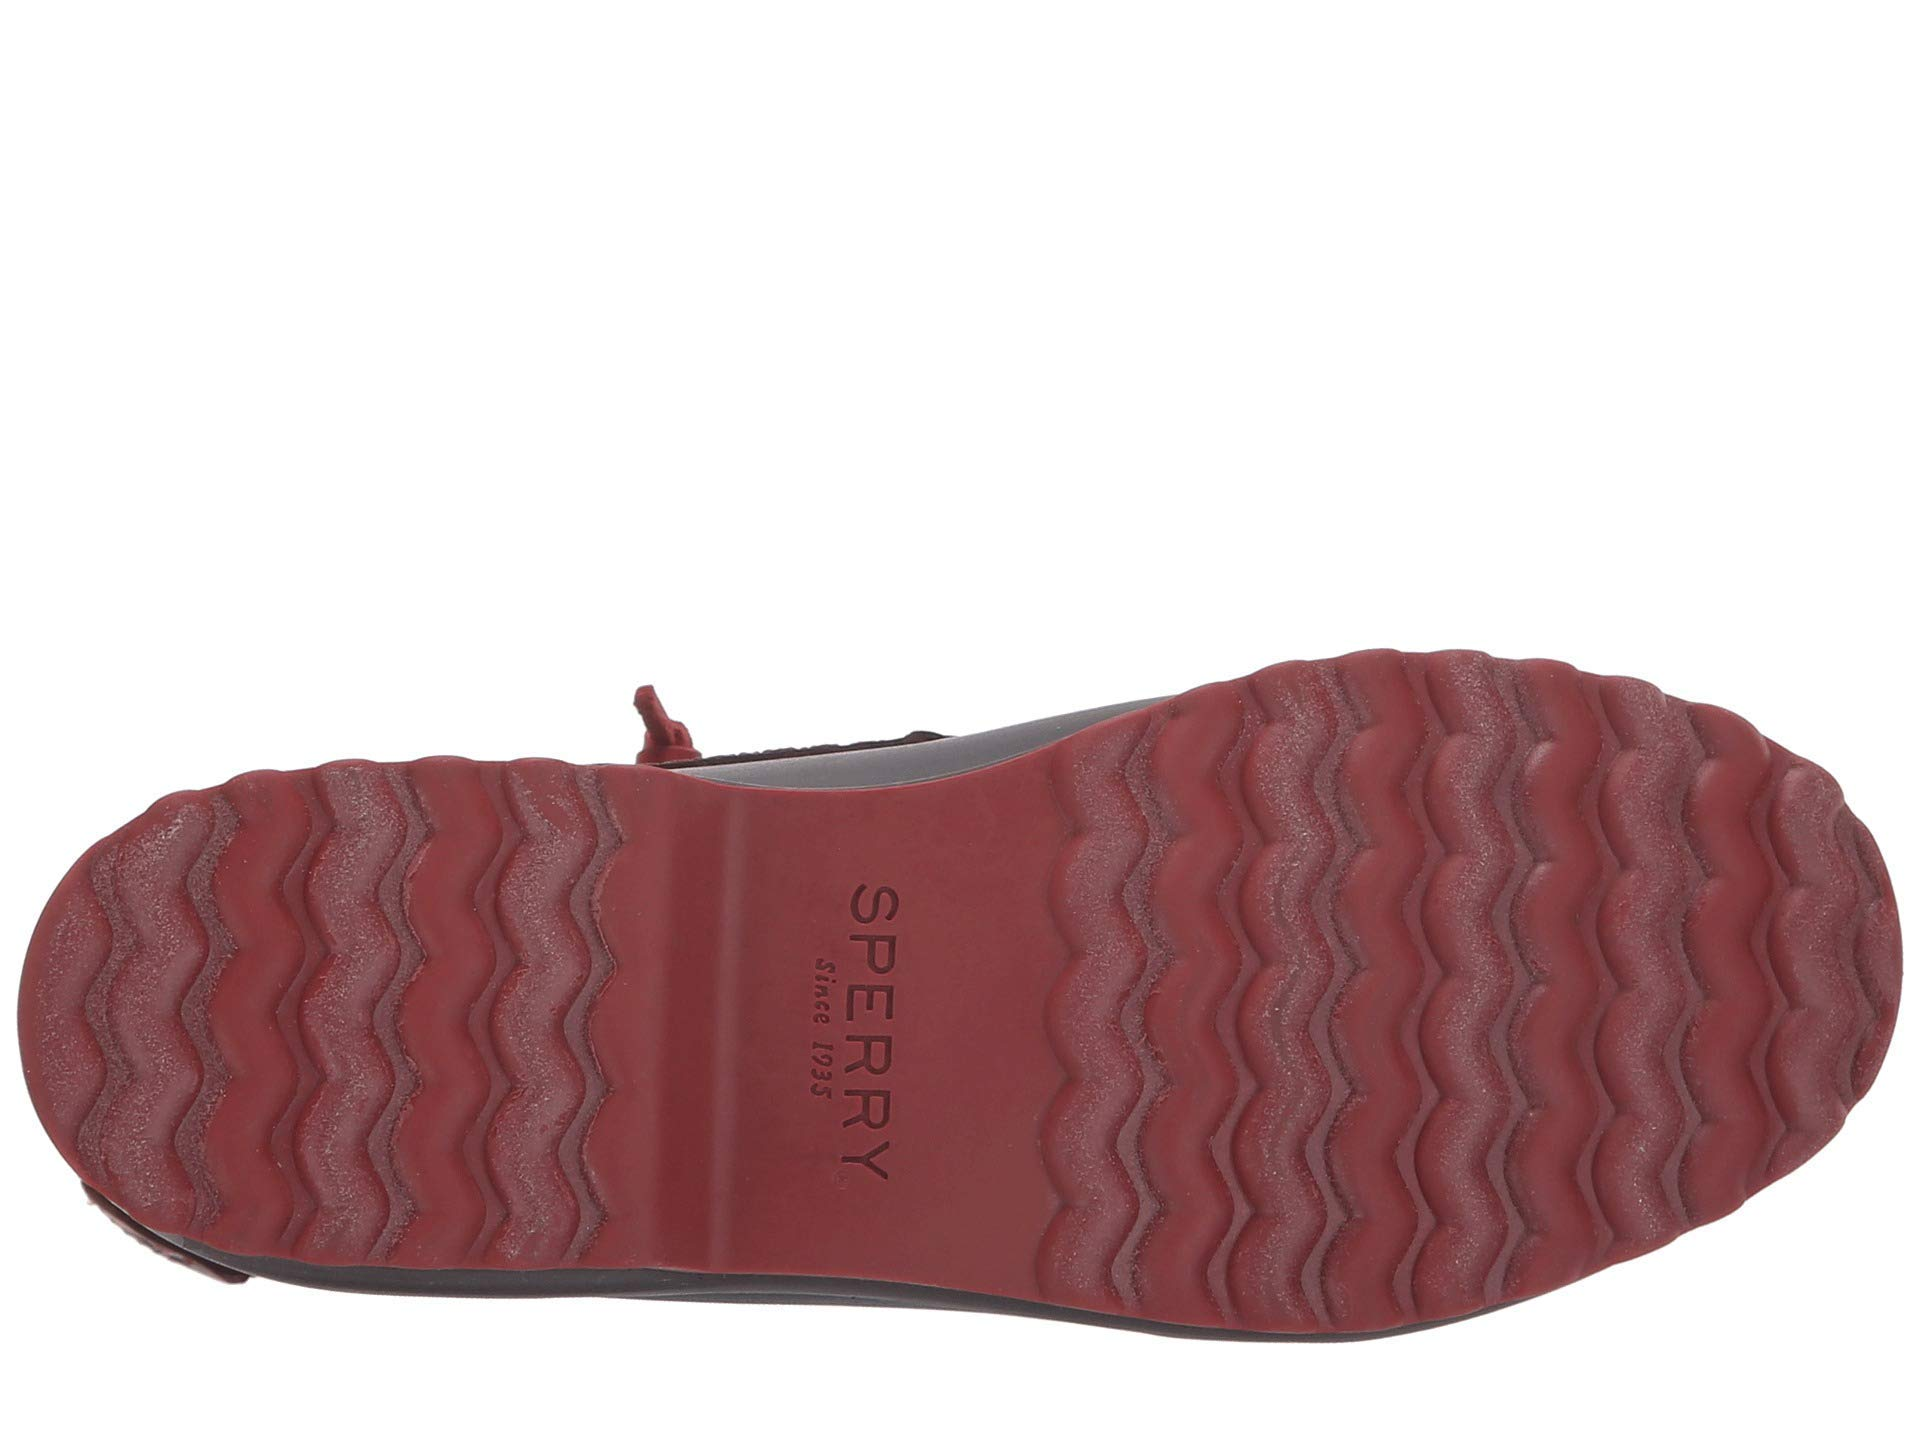chevron: (1090, 750, 1736, 1198), (139, 818, 596, 1269)
exclude: (568, 628, 1217, 799)
quad: (773, 850, 936, 1212)
text: (773, 850, 936, 1212)
